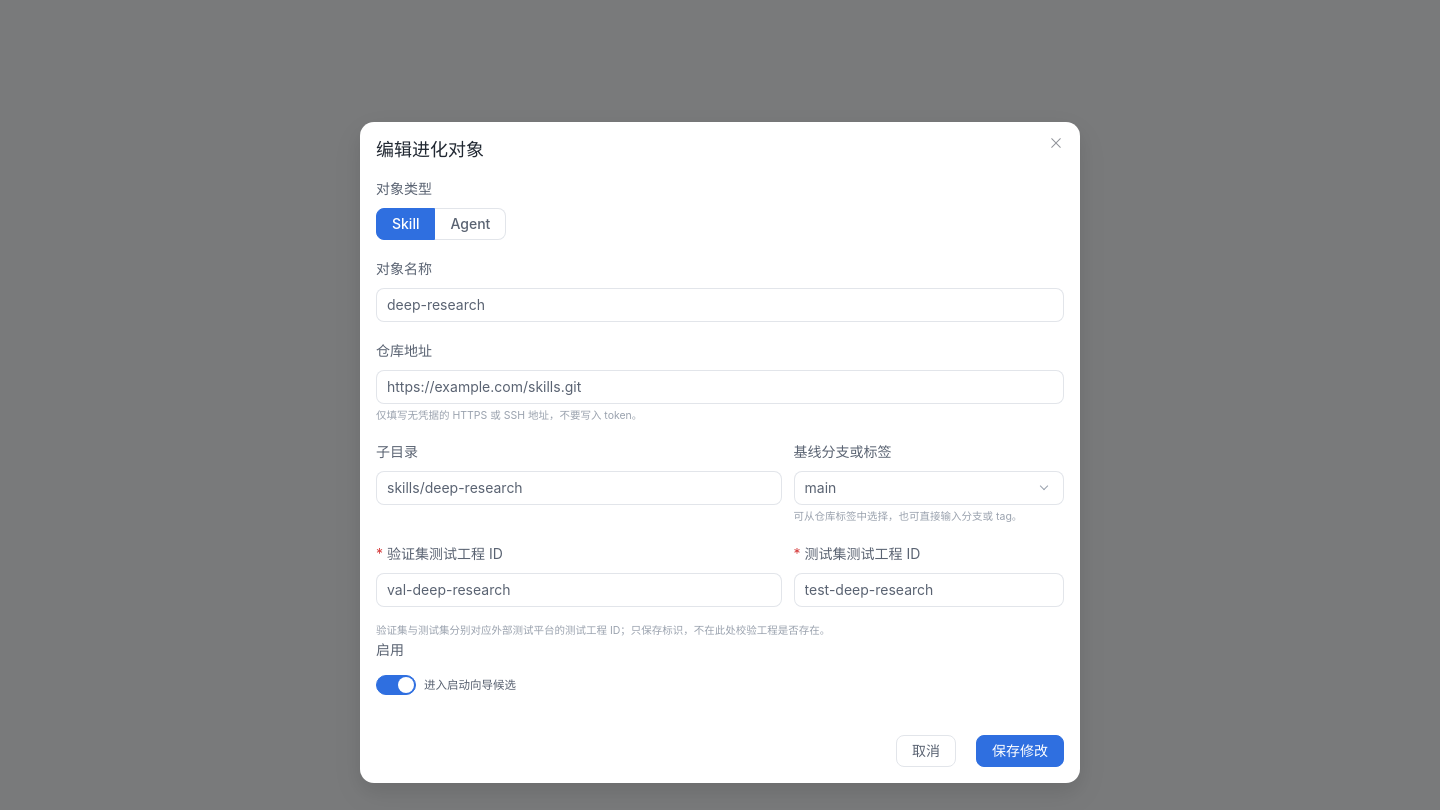
it: TargetFormDialog › opens suggestions from the visible toggle and selects an option
Click the button named "展开标签建议".
click(1044, 488)  # box [1035,479,1053,497]
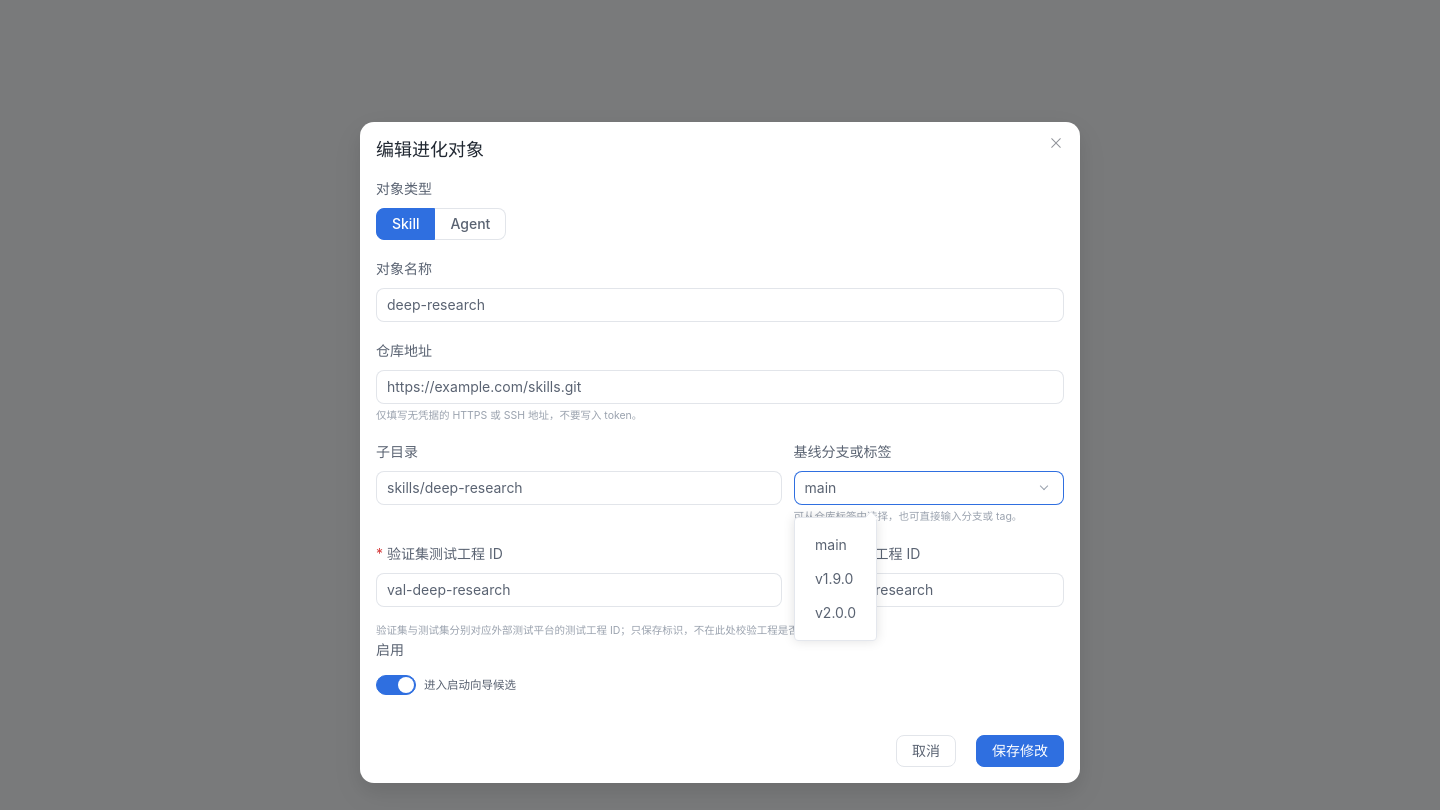
Now the option "v2.0.0" is shown
Click the option "v2.0.0".
click(836, 612)  # box [815,604,856,621]
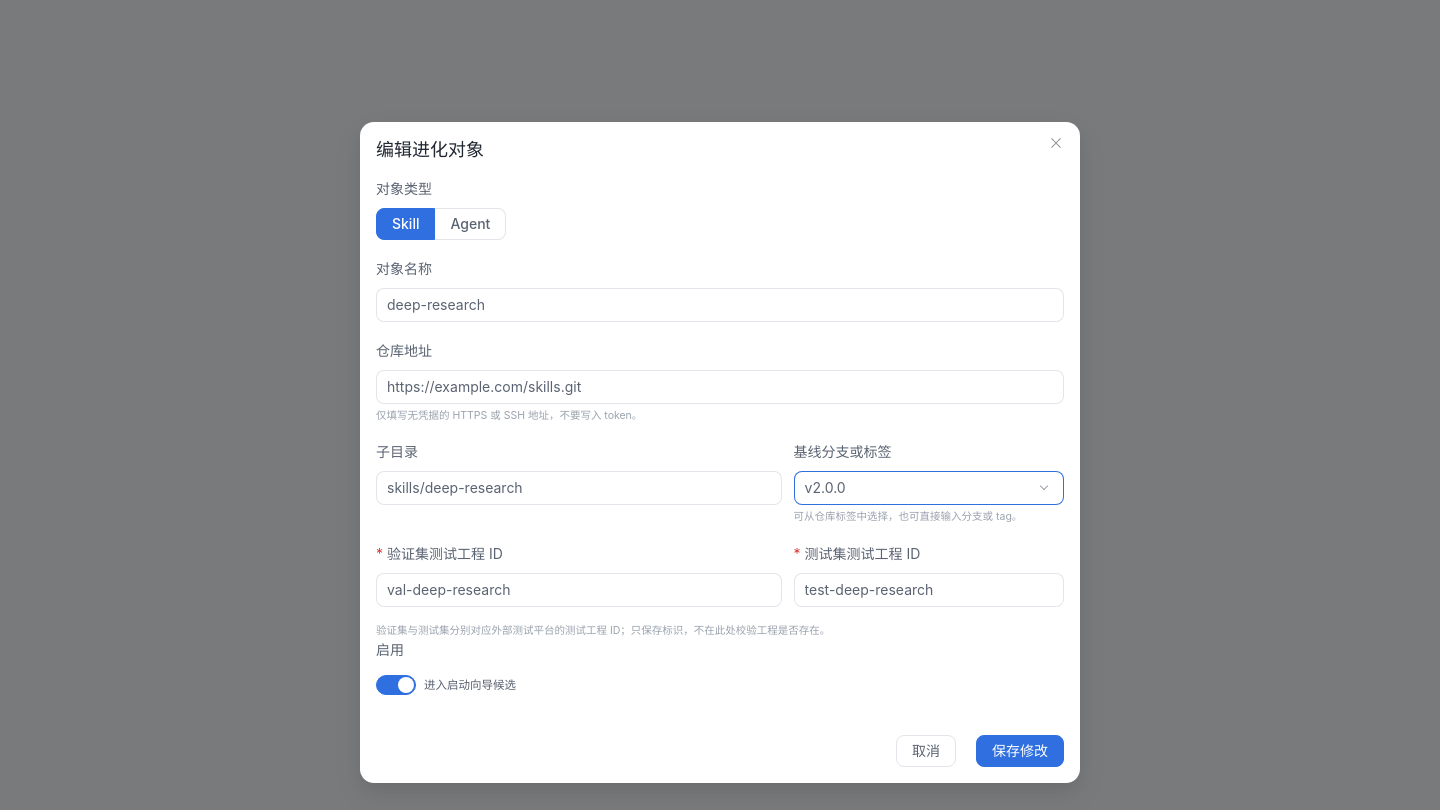
Now the field named "defaultRef" holds "v2.0.0", box [805,473,1027,503]
